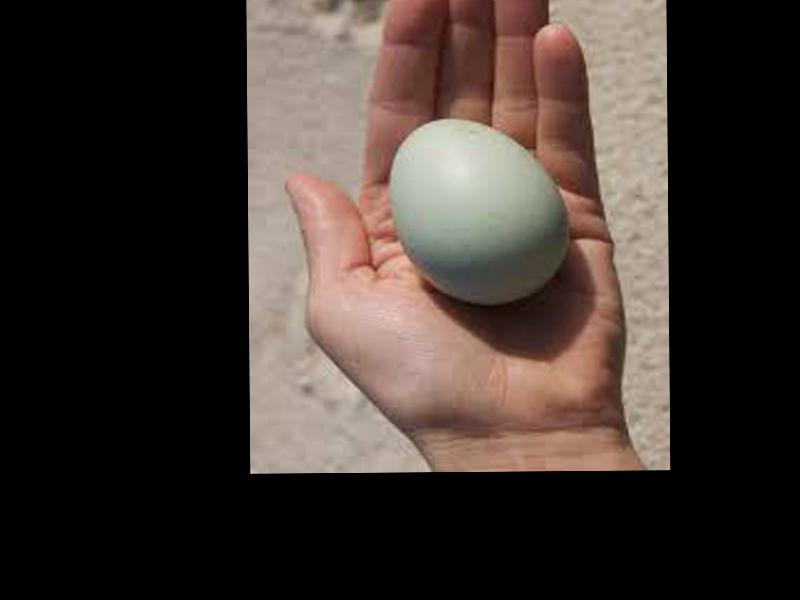Eggs: (390, 115, 567, 301)
